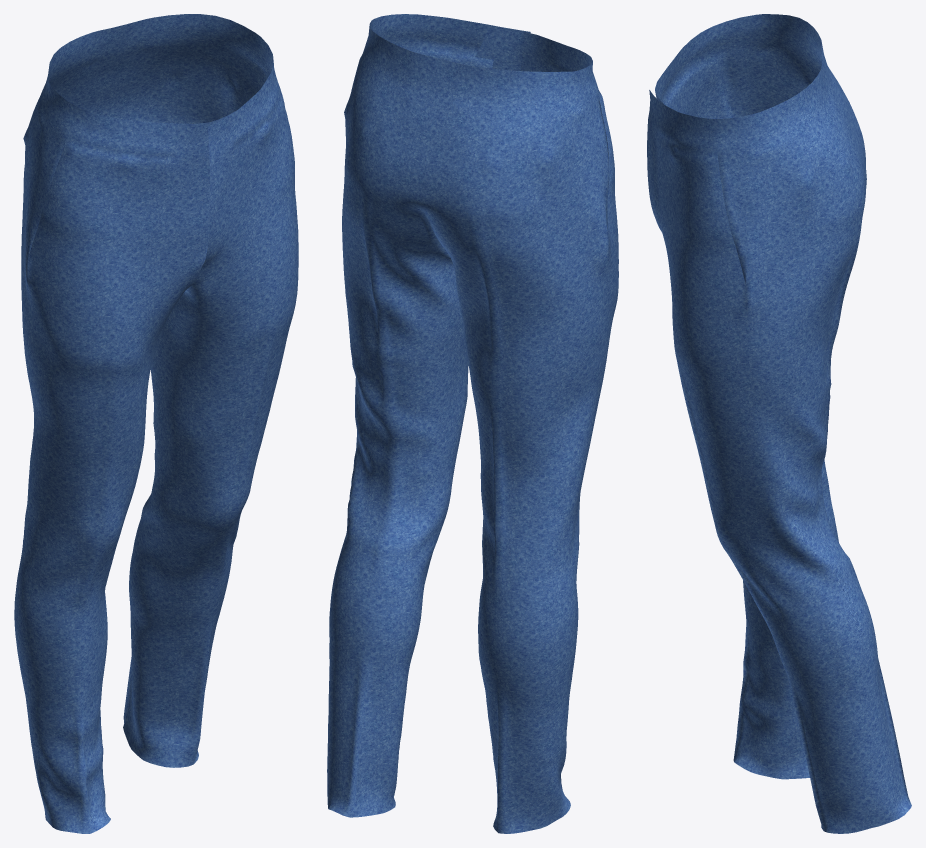
File: pant.glb
The picture shows the model from 3 angles, left to right: view 1: azimuth 30°, elevation 25°; view 2: azimuth 150°, elevation 25°; view 3: azimuth 270°, elevation 25°; orthographic projection. The views are drawn at different scales.
Parts seen in each view (by area): view 1: 9_Node; view 2: 9_Node; view 3: 9_Node.
Boxes of the visible parts, x1=… form: 9_Node: x1=14, y1=14, x2=298, y2=833; 9_Node: x1=327, y1=14, x2=618, y2=833; 9_Node: x1=647, y1=14, x2=911, y2=833.
Size of the model in its own units: 38.09 by 106 by 34.13.
1 material, 1 textured.
